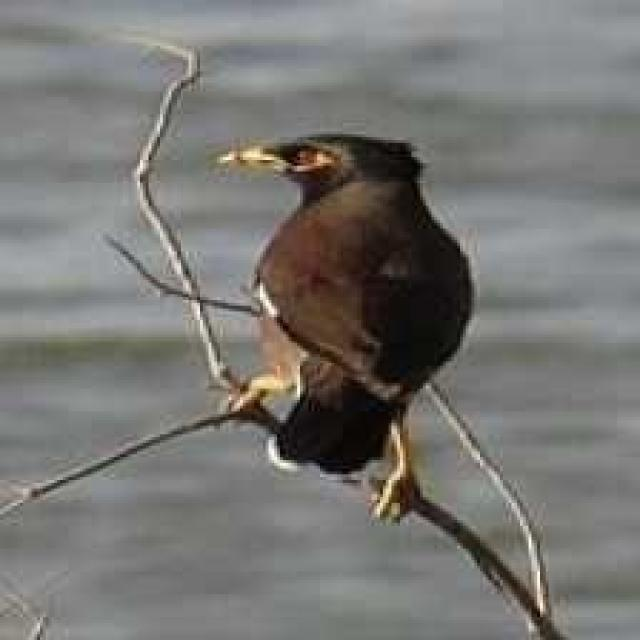bird: (216, 118, 479, 530)
